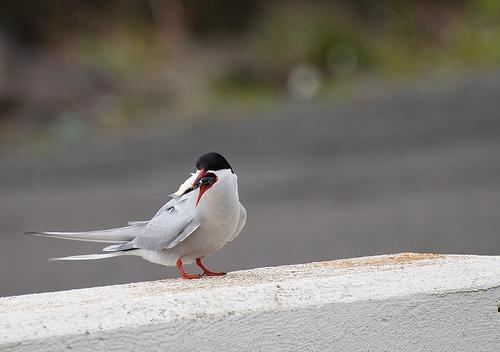bird: (21, 150, 247, 284)
